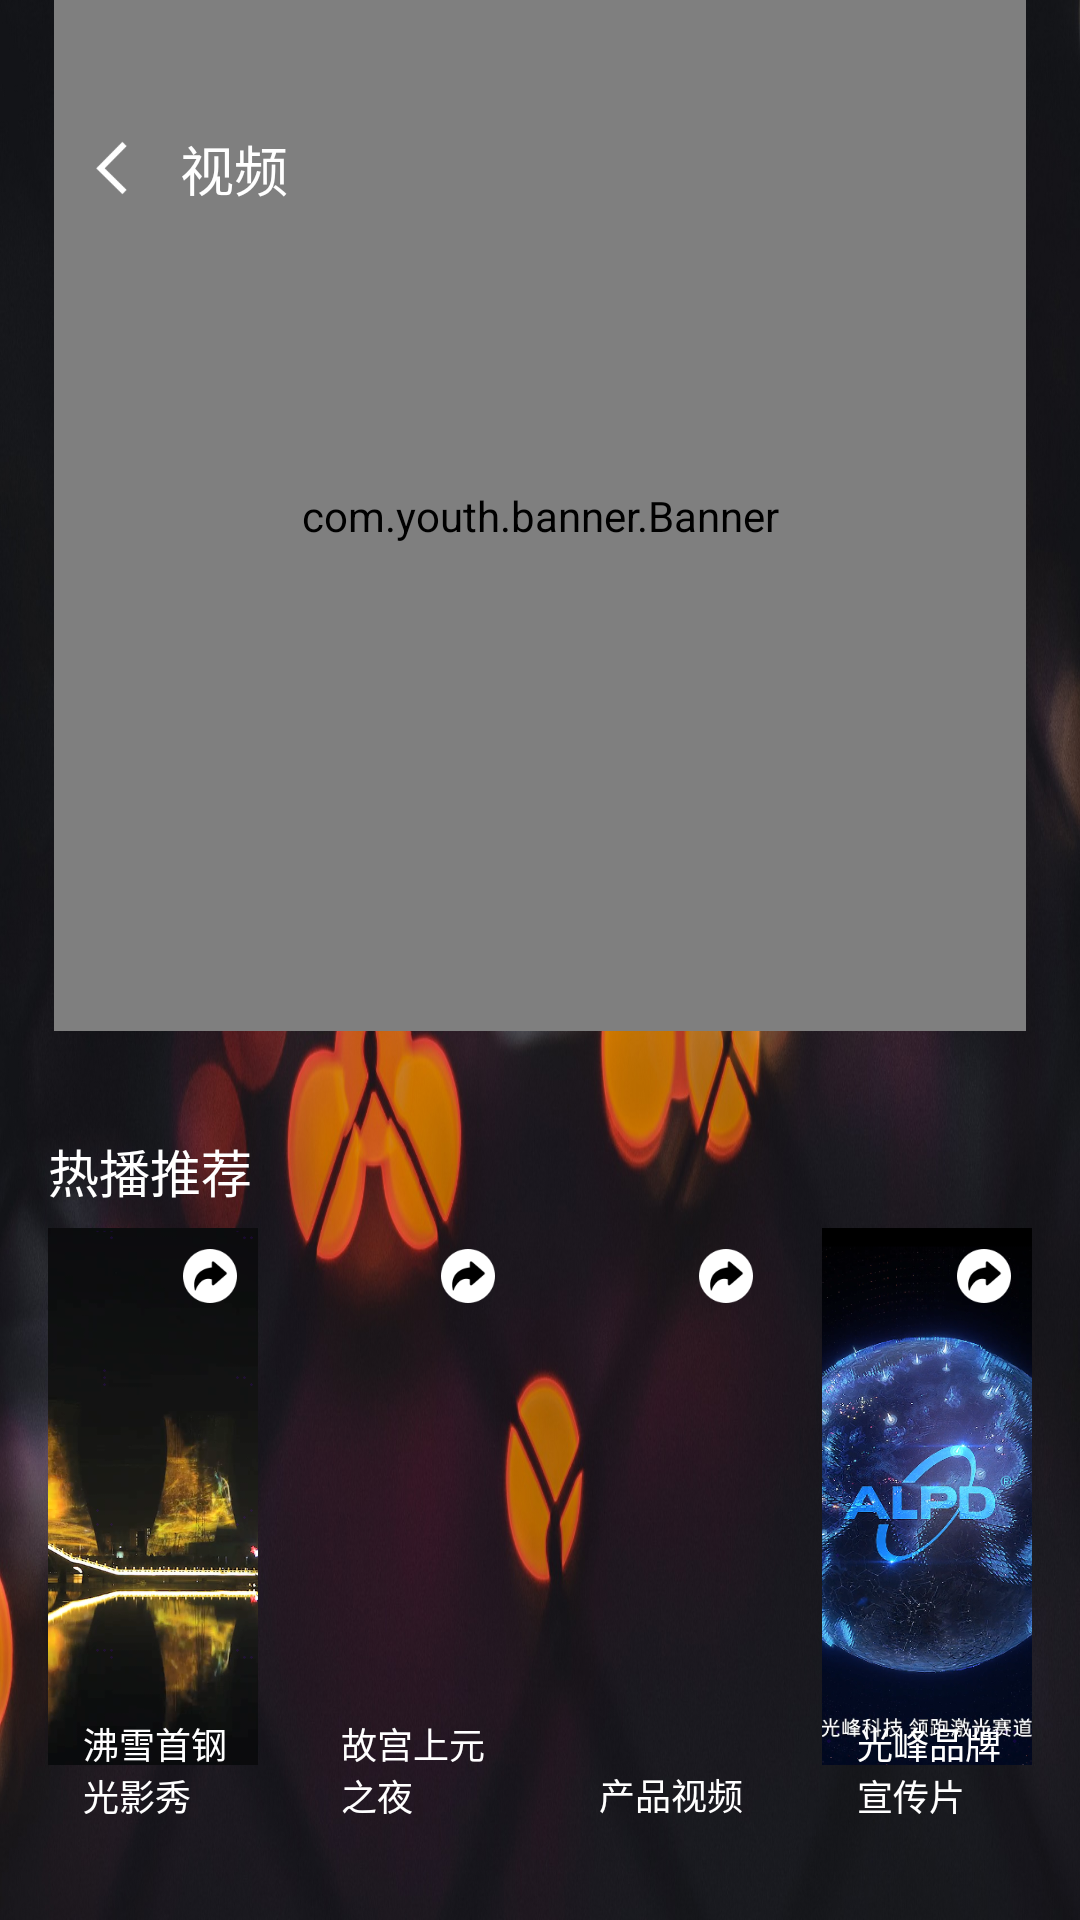

Where icons sit on this 1080 x 1920 app screen, as (x1,y1,x2,y2):
arrow back: (96,142,127,194)
